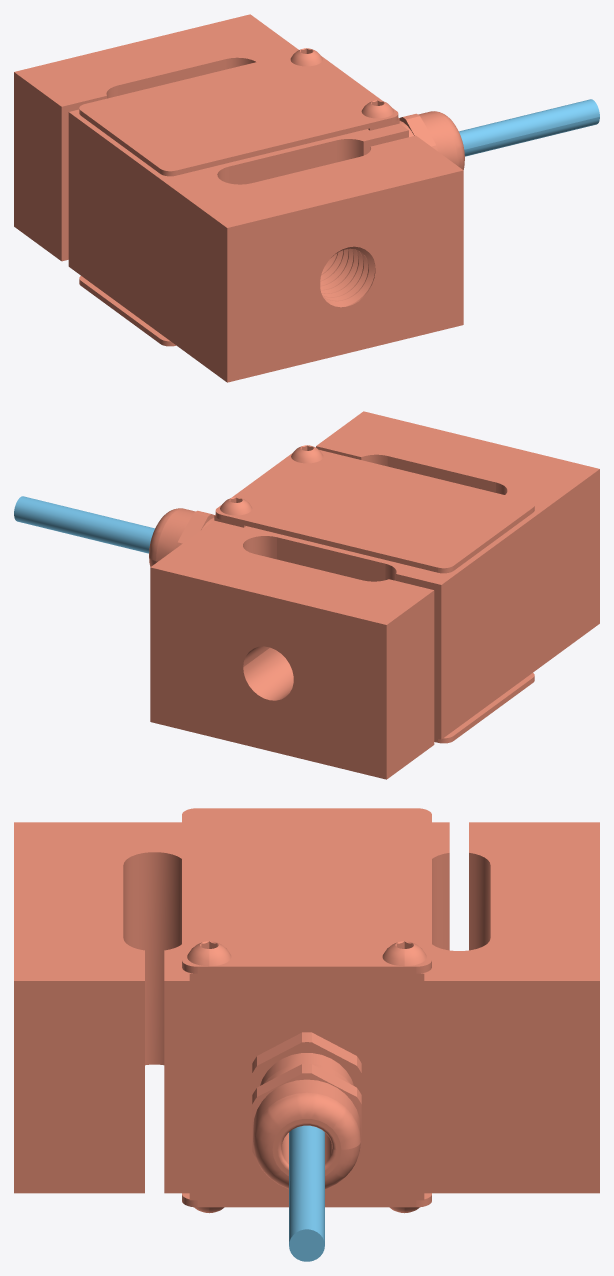
File: 3785736a-d60f-4d68-9ce7-583b91ebbaef.glb
3 views of the same model, one above another, from view 1: azimuth 30°, elevation 25°; view 2: azimuth 150°, elevation 25°; view 3: azimuth 270°, elevation 25° (orthographic). The views are drawn at different scales.
Parts seen in each view (by area): view 1: STEP_Part_0, STEP_Part_1; view 2: STEP_Part_0, STEP_Part_1; view 3: STEP_Part_0, STEP_Part_1.
Boxes of the visible parts, x1,y1,x2,y2 form: STEP_Part_0: (14, 14, 464, 382); STEP_Part_1: (459, 99, 599, 156); STEP_Part_0: (149, 411, 599, 779); STEP_Part_1: (14, 496, 154, 553); STEP_Part_0: (14, 808, 599, 1213); STEP_Part_1: (289, 1125, 324, 1261).
Size of the model in its own units: 96 by 37.3 by 75.
